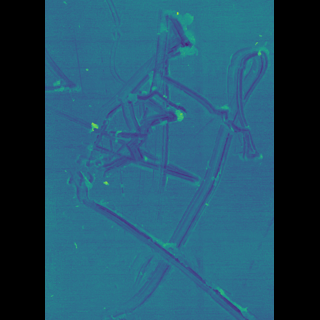Loch: (76, 7, 237, 319)
